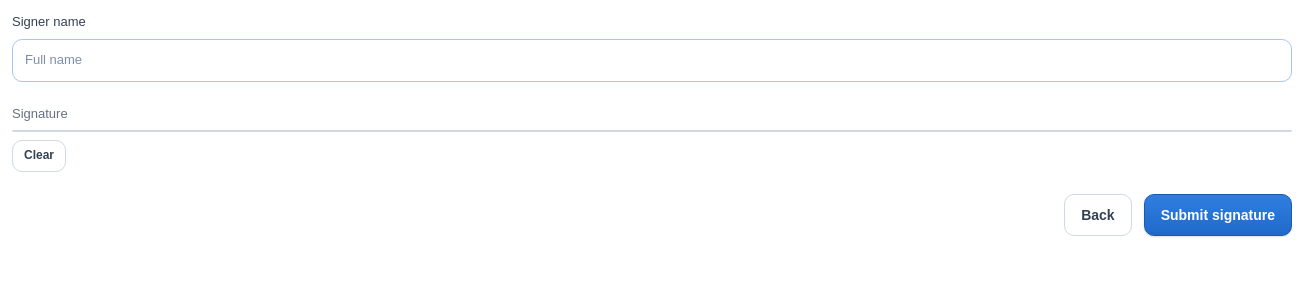
Test: Signature pad › asks for a drawn signature before saving
Type "Thabo Radebe" into the field with placeholder "Full name".
click(652, 60); type("Thabo Radebe")  # box [12,39,1292,82]
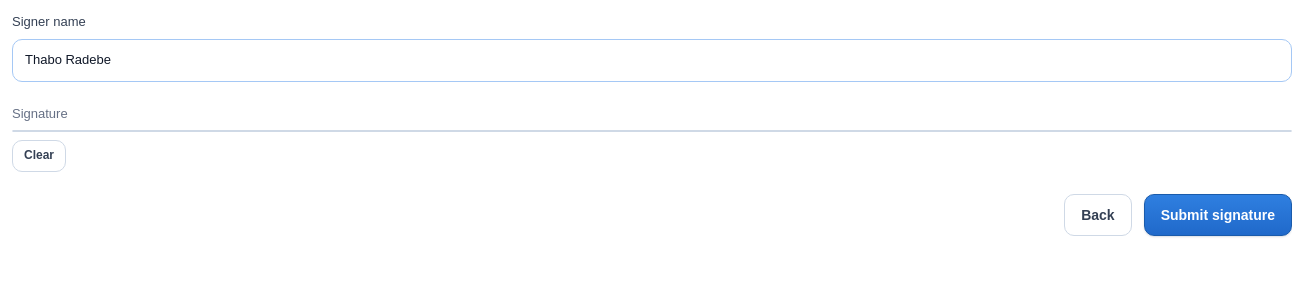
Click the button "Submit signature".
click(1218, 215)  # box [1144,194,1292,236]
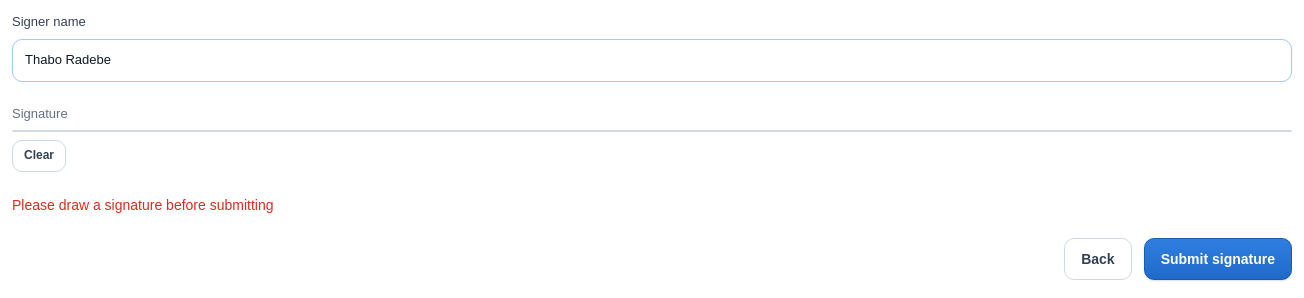
Now the message reads "Please draw a signature before submitting", box [12,197,274,213]
